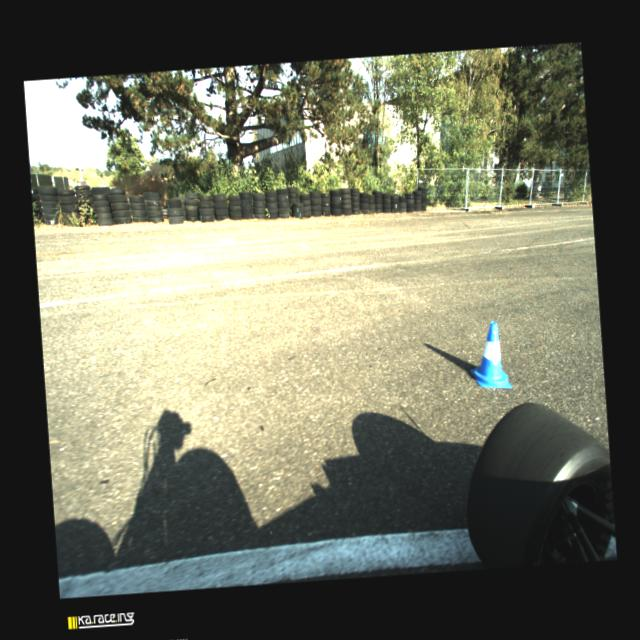blue_cone: (467, 320, 512, 391)
